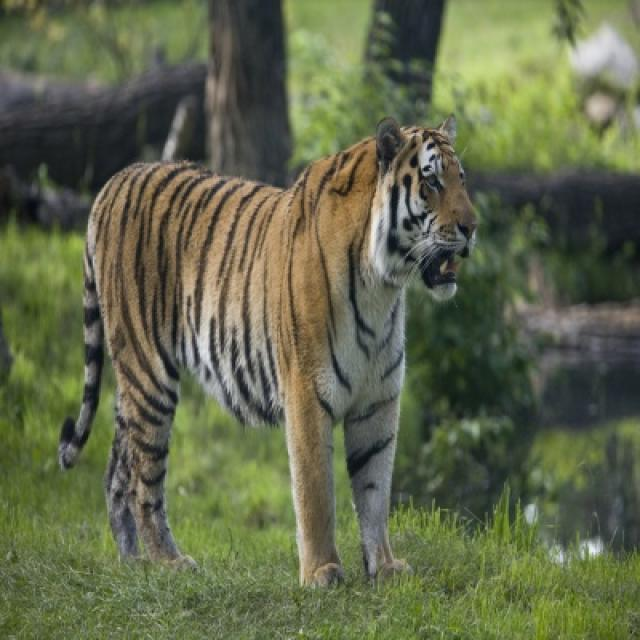Tiger: (93, 127, 480, 569)
